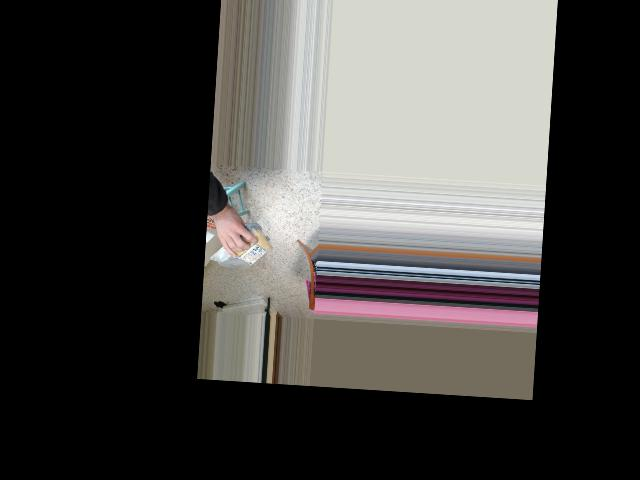cheese: (208, 230, 270, 267)
